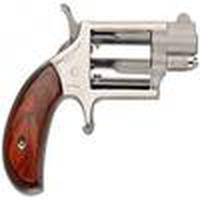gun: (2, 14, 200, 192)
